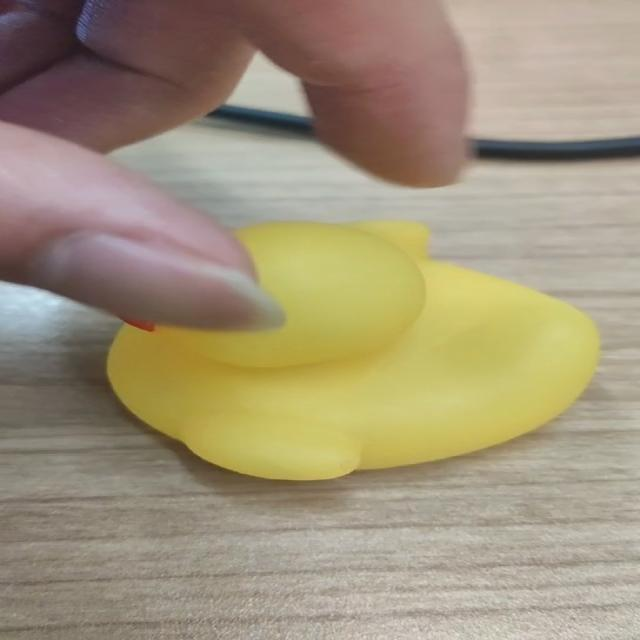rubber-duck: (107, 221, 597, 478)
